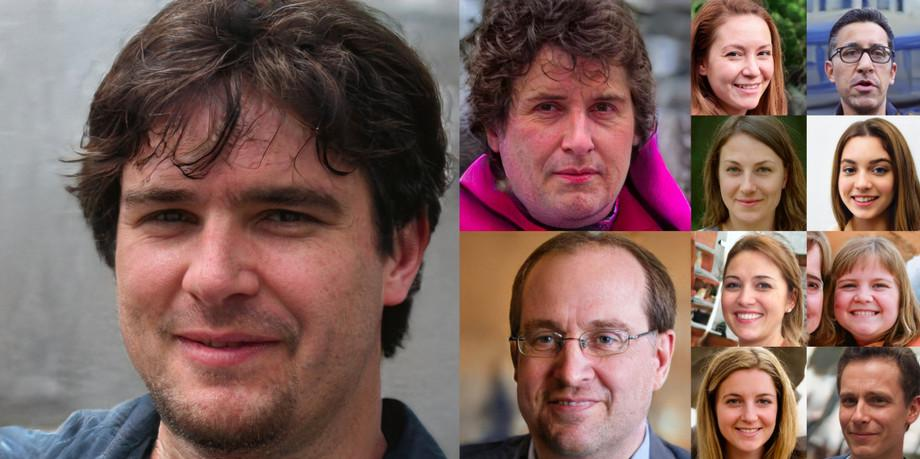no_mask: (125, 81, 375, 436), (513, 232, 661, 439), (516, 30, 626, 215), (717, 125, 782, 217), (837, 129, 900, 217), (840, 250, 897, 332)
